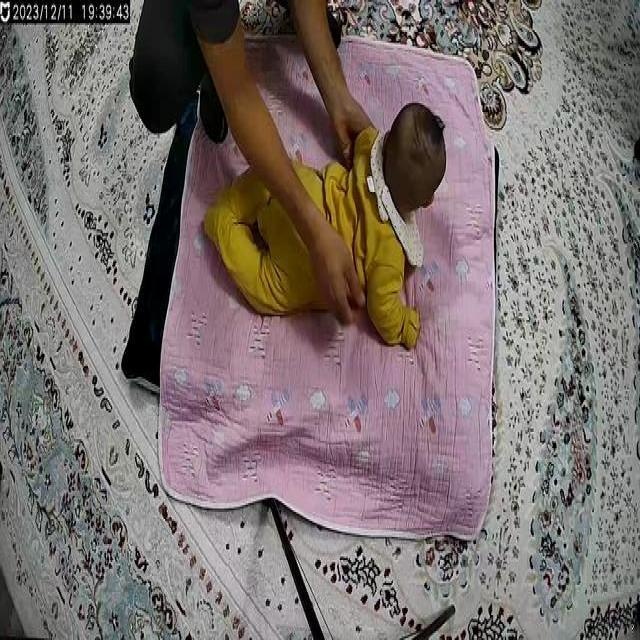baby: (192, 97, 454, 356)
